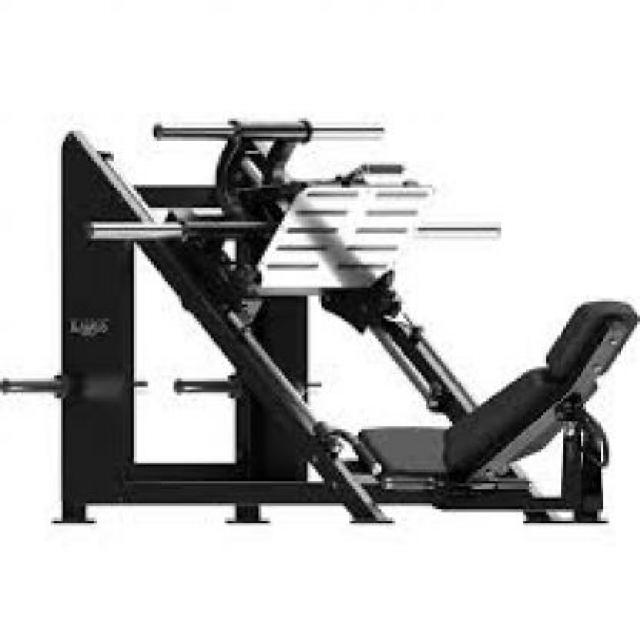leg press: (3, 81, 637, 584)
